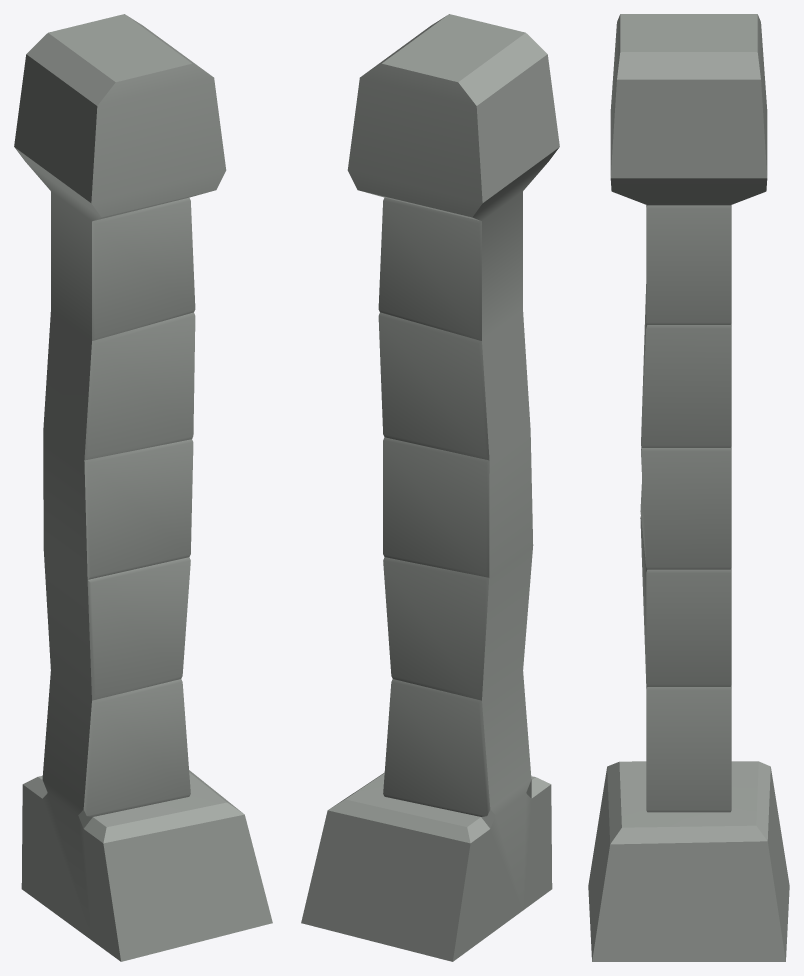
Rendered from WallStonePillar.fbx.
The picture shows the model from 3 angles, left to right: view 1: azimuth 30°, elevation 25°; view 2: azimuth 150°, elevation 25°; view 3: azimuth 270°, elevation 25°; orthographic projection.
Parts seen in each view (by area): view 1: Cube.037; view 2: Cube.037; view 3: Cube.037.
Part boxes in pixels (x1,y1,x2,y2): Cube.037: [14, 14, 272, 961]; Cube.037: [301, 14, 559, 961]; Cube.037: [588, 14, 789, 961].
Bounding box in the file's own units: 48.26 × 232 × 48.2.
Materials: 1 (1 with a texture image).
